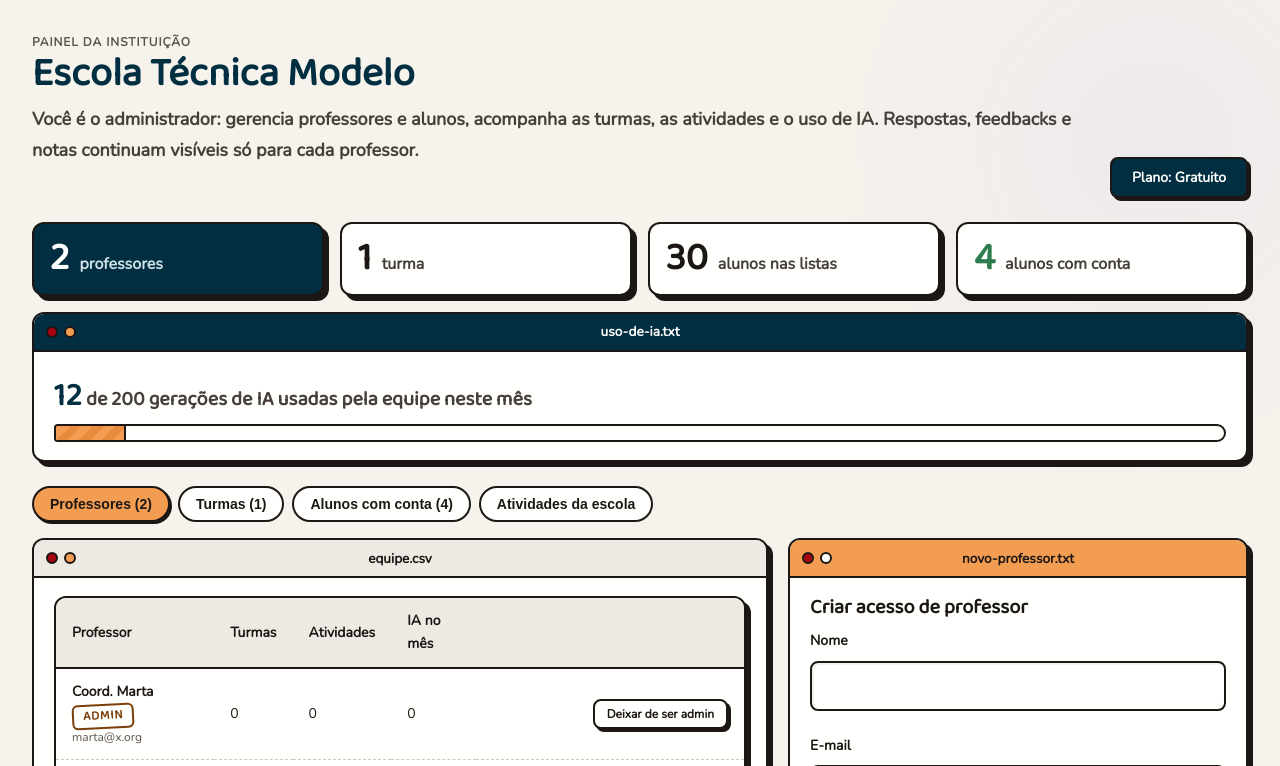
Área da instituição › administrador vê a equipe e cria acesso com senha provisória
Expected: the text "12" is shown, [54,371,82,422]
Type "Ana" into the field labelled "Nome".
click(1018, 686); type("Ana")  # box [810,661,1226,711]
(page scrolled)
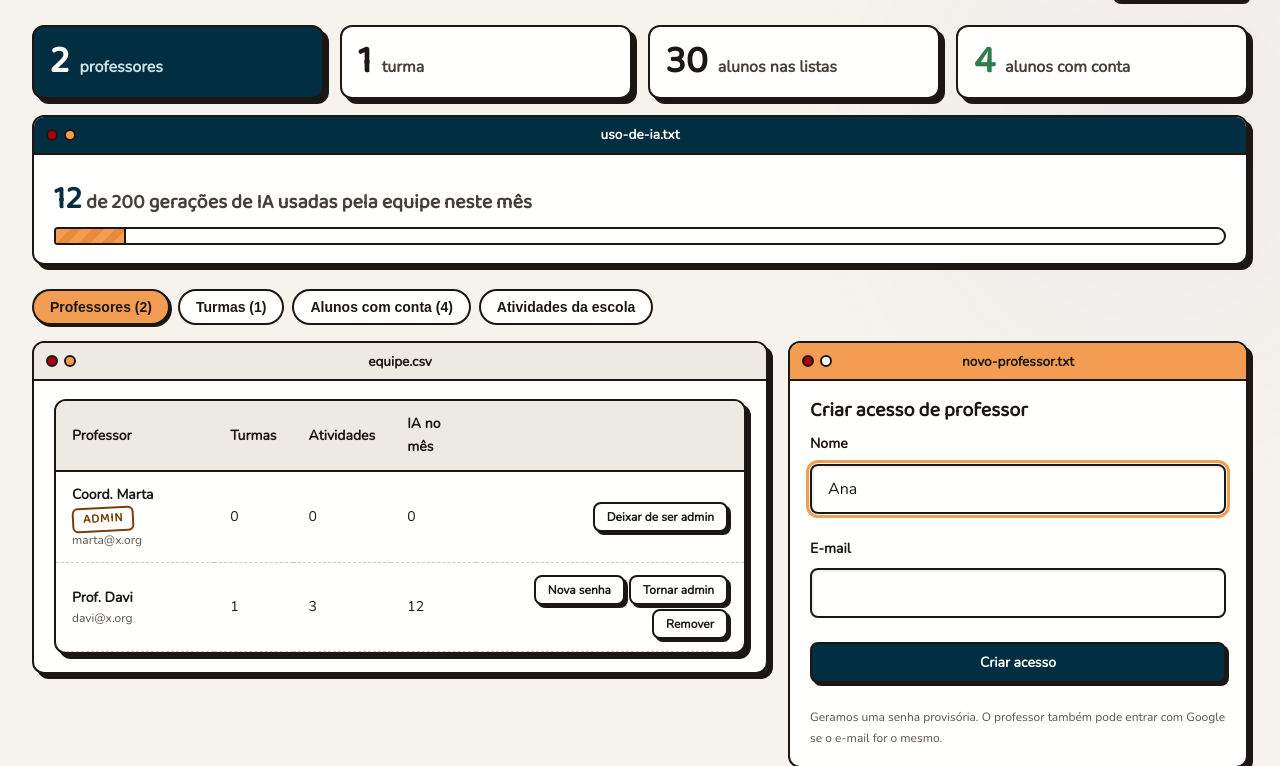
Type "ana@x.org" into the field labelled "E-mail".
click(1018, 593); type("ana@x.org")  # box [810,568,1226,618]
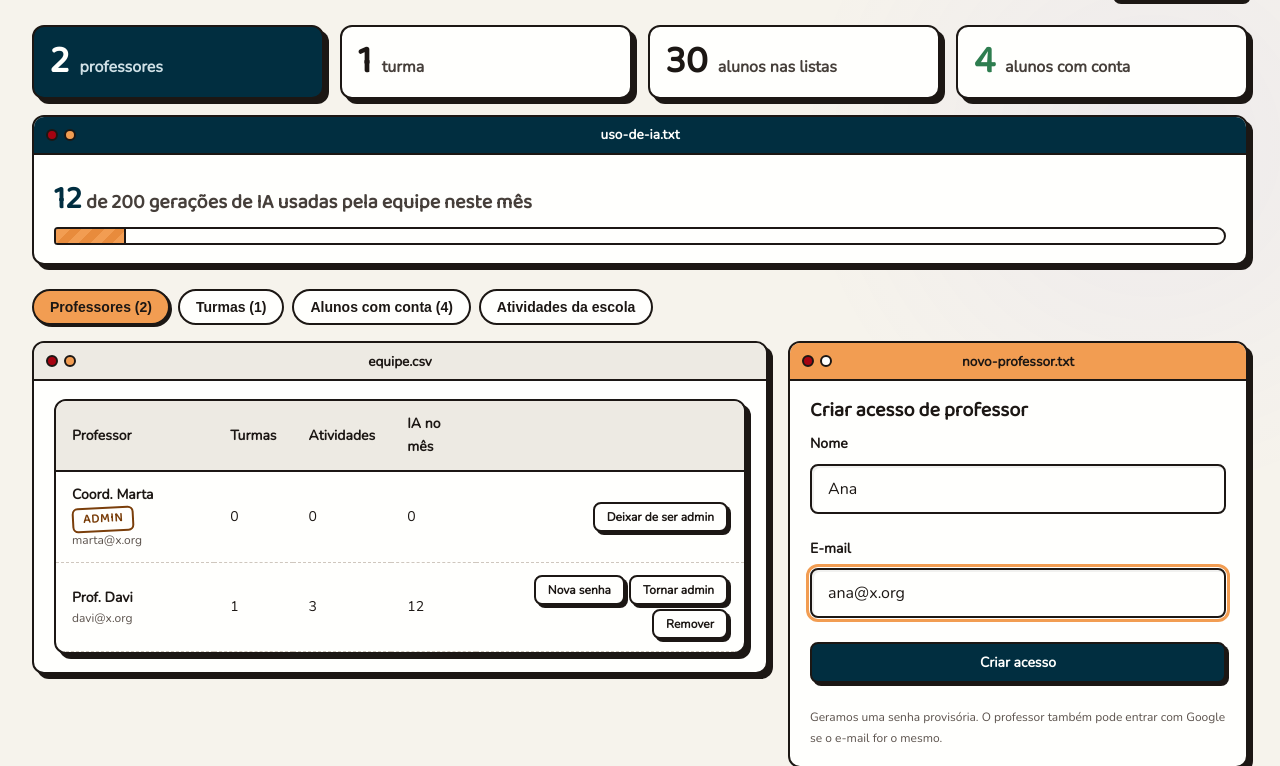
Click the button "Criar acesso".
click(1018, 663)  # box [810,642,1226,683]
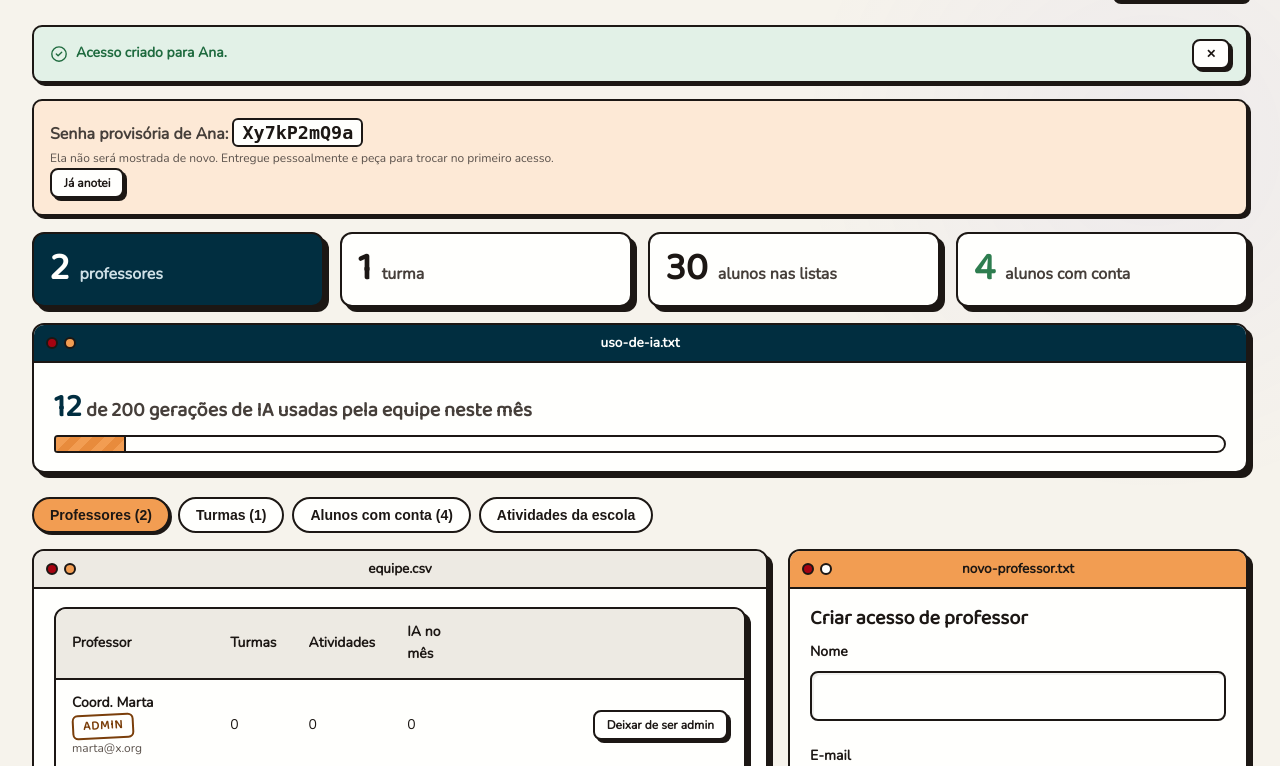
Expected: the text "Xy7kP2mQ9a" is shown, [232,118,363,147]
Expected: the text "não será mostrada de novo" is shown, [50,150,554,166]
Click the tab "Turmas (1)".
click(231, 515)  # box [178,497,284,533]
(page scrolled)
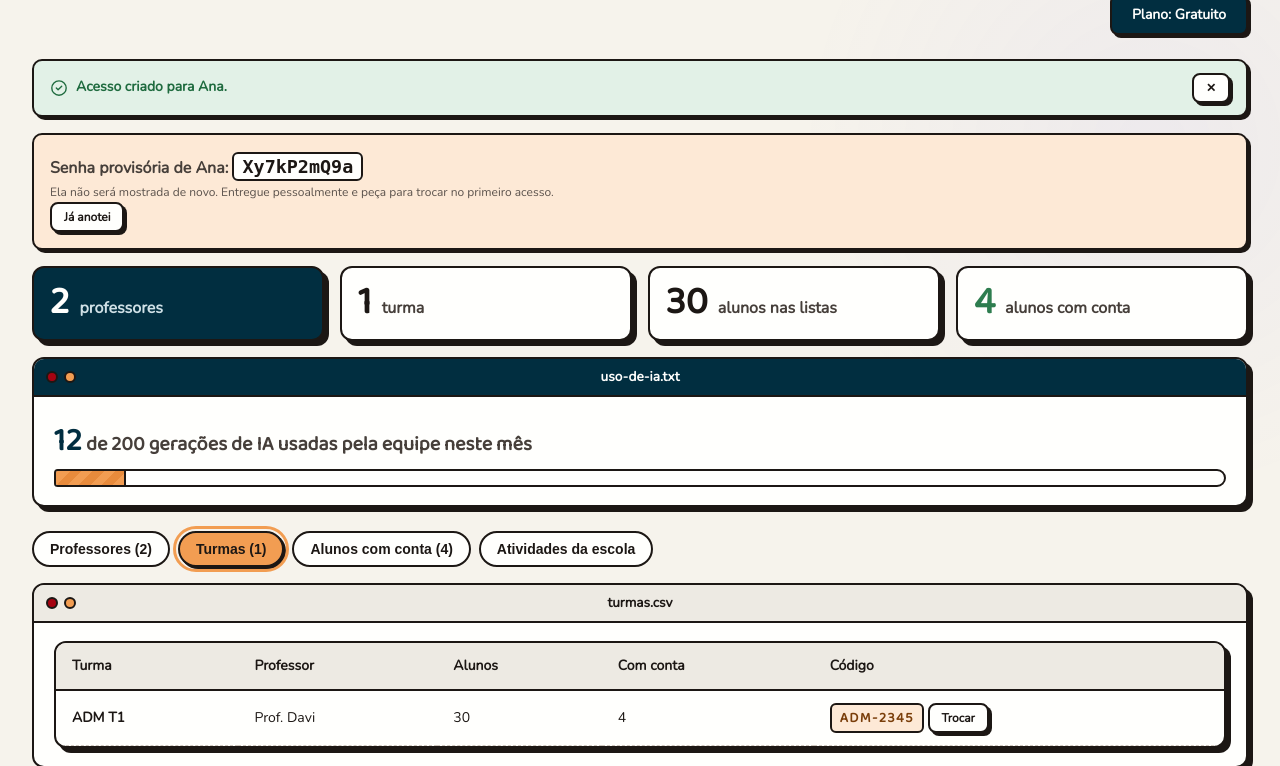
Expected: the text "ADM-2345" is shown, [830,703,924,733]
